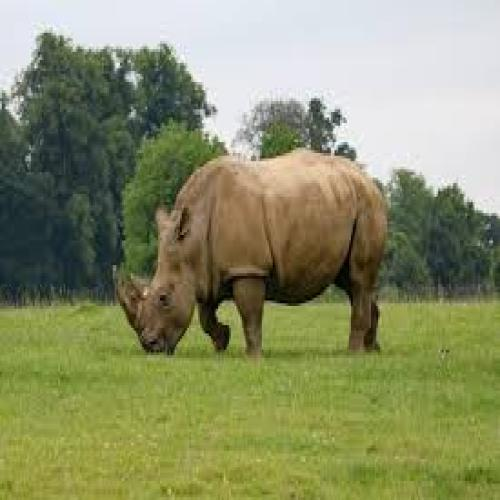rhino-endangered: (111, 149, 390, 358)
